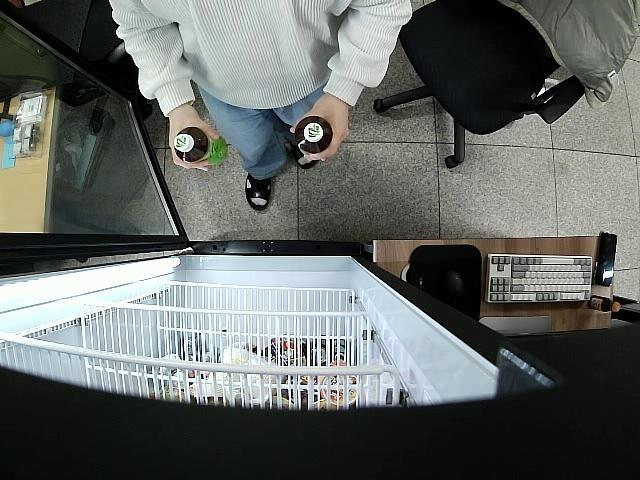19_17cha: (174, 126, 230, 164), (294, 116, 334, 154)
